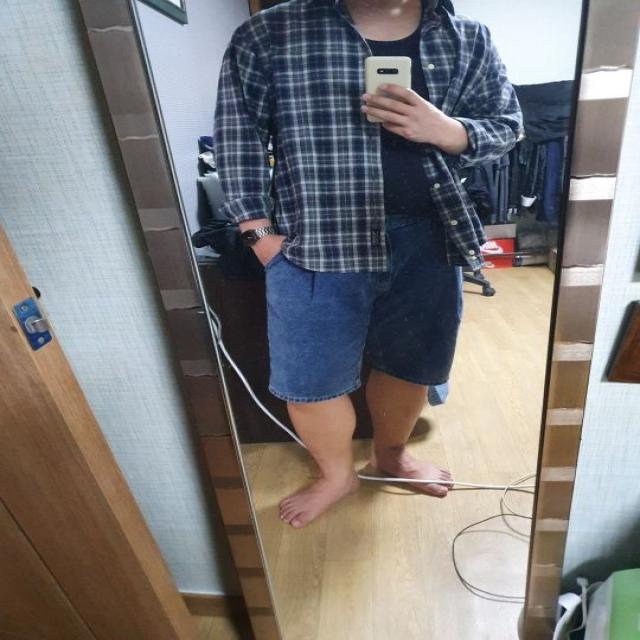shirt: (209, 0, 520, 271)
shortpants: (265, 217, 462, 401)
